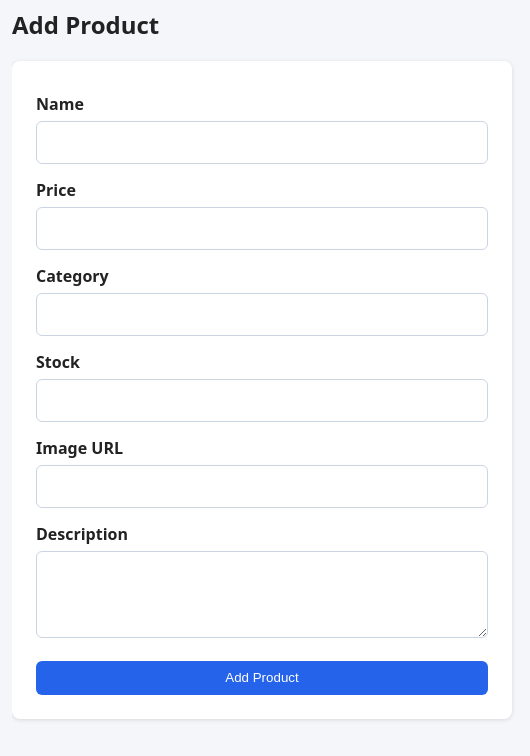
AddProduct › shows an error when the request fails
This screenshot has width=530, height=756.
Step 1. Type "Webcam" into the field labelled "Name" → (262, 143), box [36,121,488,164]
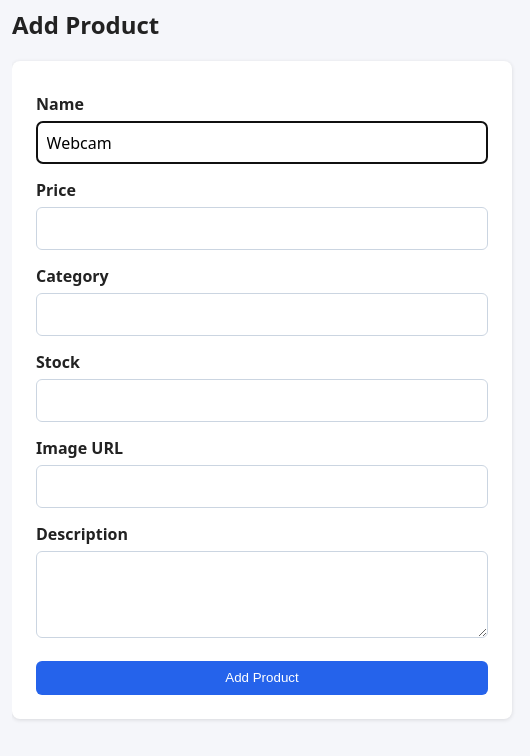
Step 2. Type "45" into the number field labelled "Price" → (262, 229), box [36,207,488,250]
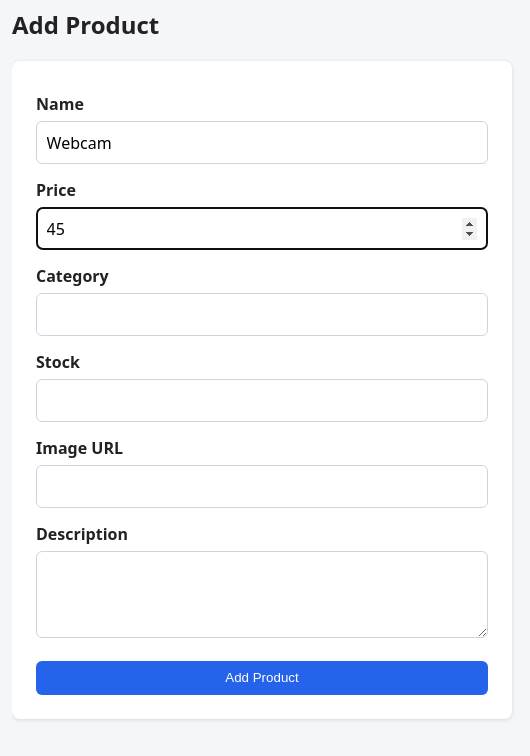
Step 3. Type "Electronics" into the field labelled "Category" → (262, 315), box [36,293,488,336]
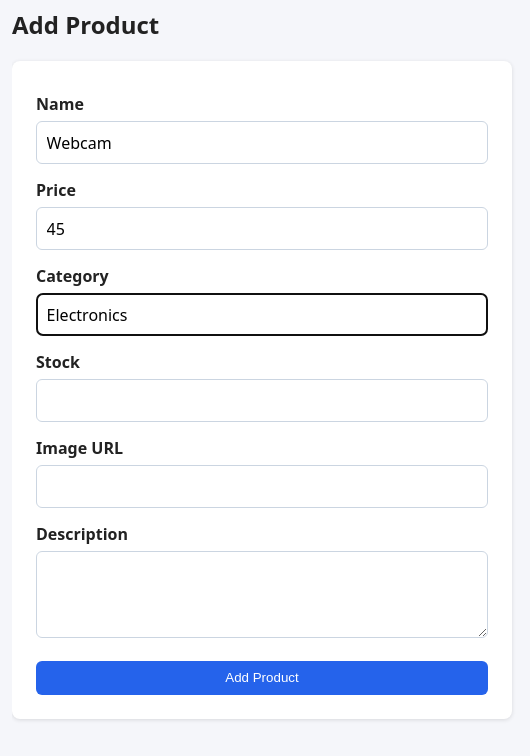
Step 4. Type "10" into the number field labelled "Stock" → (262, 401), box [36,379,488,422]
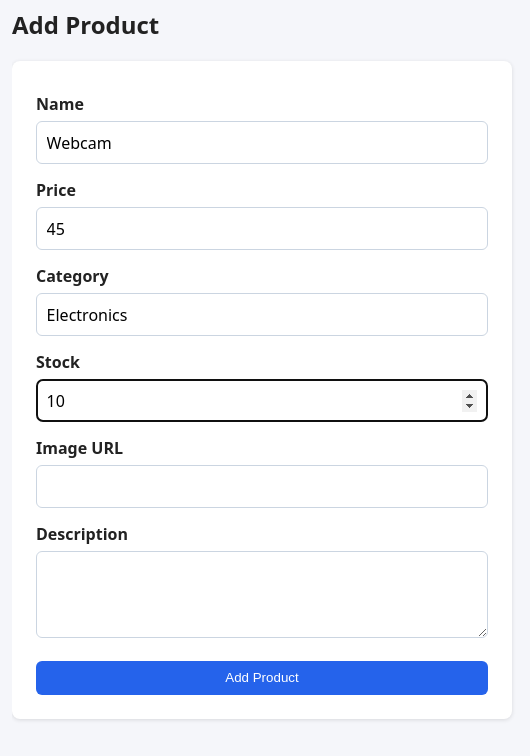
Step 5. Click the button "Add Product" → click(262, 678), box [36,661,488,695]
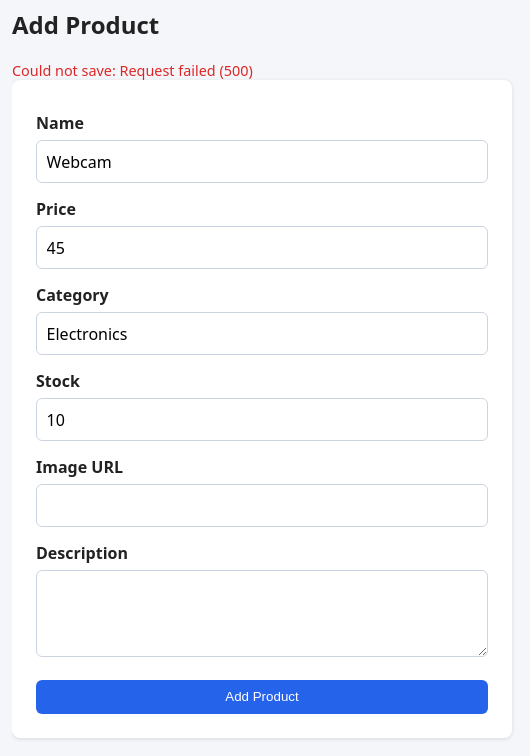
Check: the message shows "500", box [120,61,253,80]
